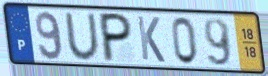0: (169, 15, 200, 67)
9: (34, 9, 65, 61), (203, 16, 233, 67)
K: (134, 14, 167, 64)
P: (100, 11, 134, 64)
U: (63, 12, 103, 62)
